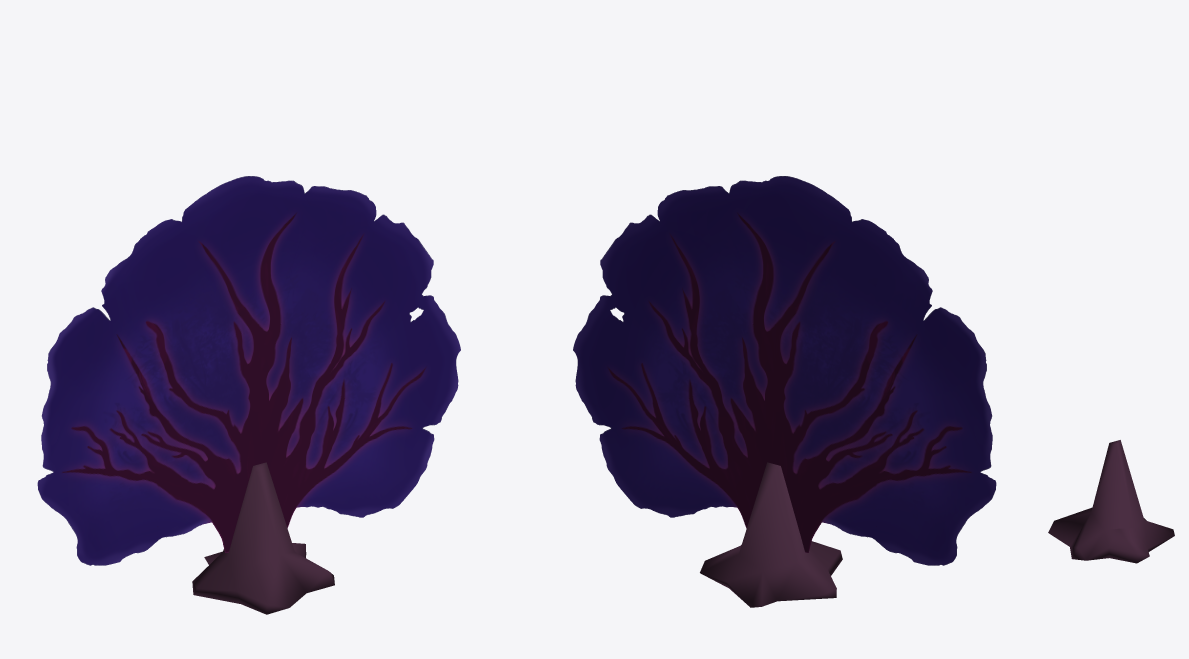
The model's file is Leaf.fbx.
The picture shows the model from 3 angles, left to right: view 1: azimuth 30°, elevation 25°; view 2: azimuth 150°, elevation 25°; view 3: azimuth 270°, elevation 25°; orthographic projection. The views are drawn at different scales.
Visible parts, largest first — view 1: Plane, Sphere; view 2: Plane, Sphere; view 3: Sphere.
Part boxes in pixels (x1,y1,x2,y2): Plane: (37,176,460,565); Sphere: (192,462,334,614); Plane: (573,176,996,565); Sphere: (700,462,842,607); Sphere: (1048,440,1174,563).
Bounding box in the file's own units: 28 × 7.49 × 28.
2 materials, 1 textured.
